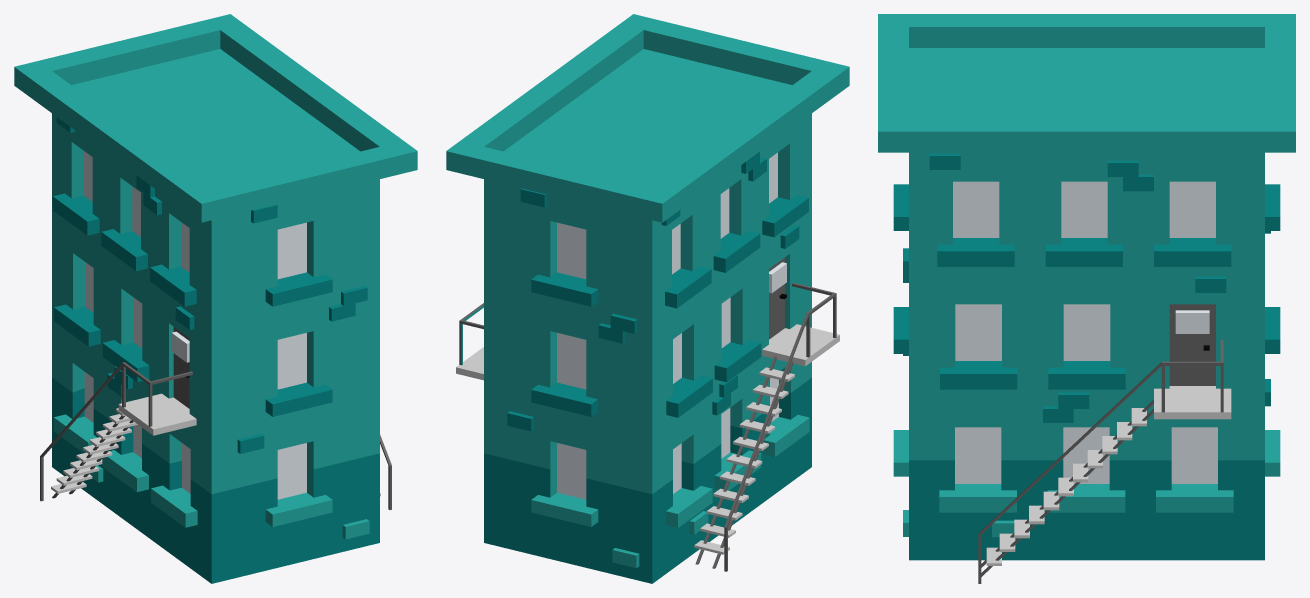
Rendered from Edificio 3.fbx.
3 views of the same model, side by side, from view 1: azimuth 30°, elevation 25°; view 2: azimuth 150°, elevation 25°; view 3: azimuth 270°, elevation 25° (orthographic). The views are drawn at different scales.
Visible parts, largest first — view 1: Pared 1 [5759], [3482], [5794]; view 2: Pared 1 [5753], [3482] (×2), [5794]; view 3: [3482], [5794], Pared 1 [5759], Pared 1 [5753].
Part boxes in pixels (x1,y1,x2,y2): Pared 1 [5759]: (211,179,379,583); [3482]: (40,113,211,583); [5794]: (14,14,417,222); Pared 1 [5753]: (484,179,652,583); [3482] (×2): (456,113,839,583); [5794]: (446,14,849,222); [3482]: (909,152,1264,583); [5794]: (878,14,1295,152); Pared 1 [5759]: (893,184,908,536); Pared 1 [5753]: (1265,184,1280,476).
Bounding box in the file's own units: 417 × 531 × 620.
